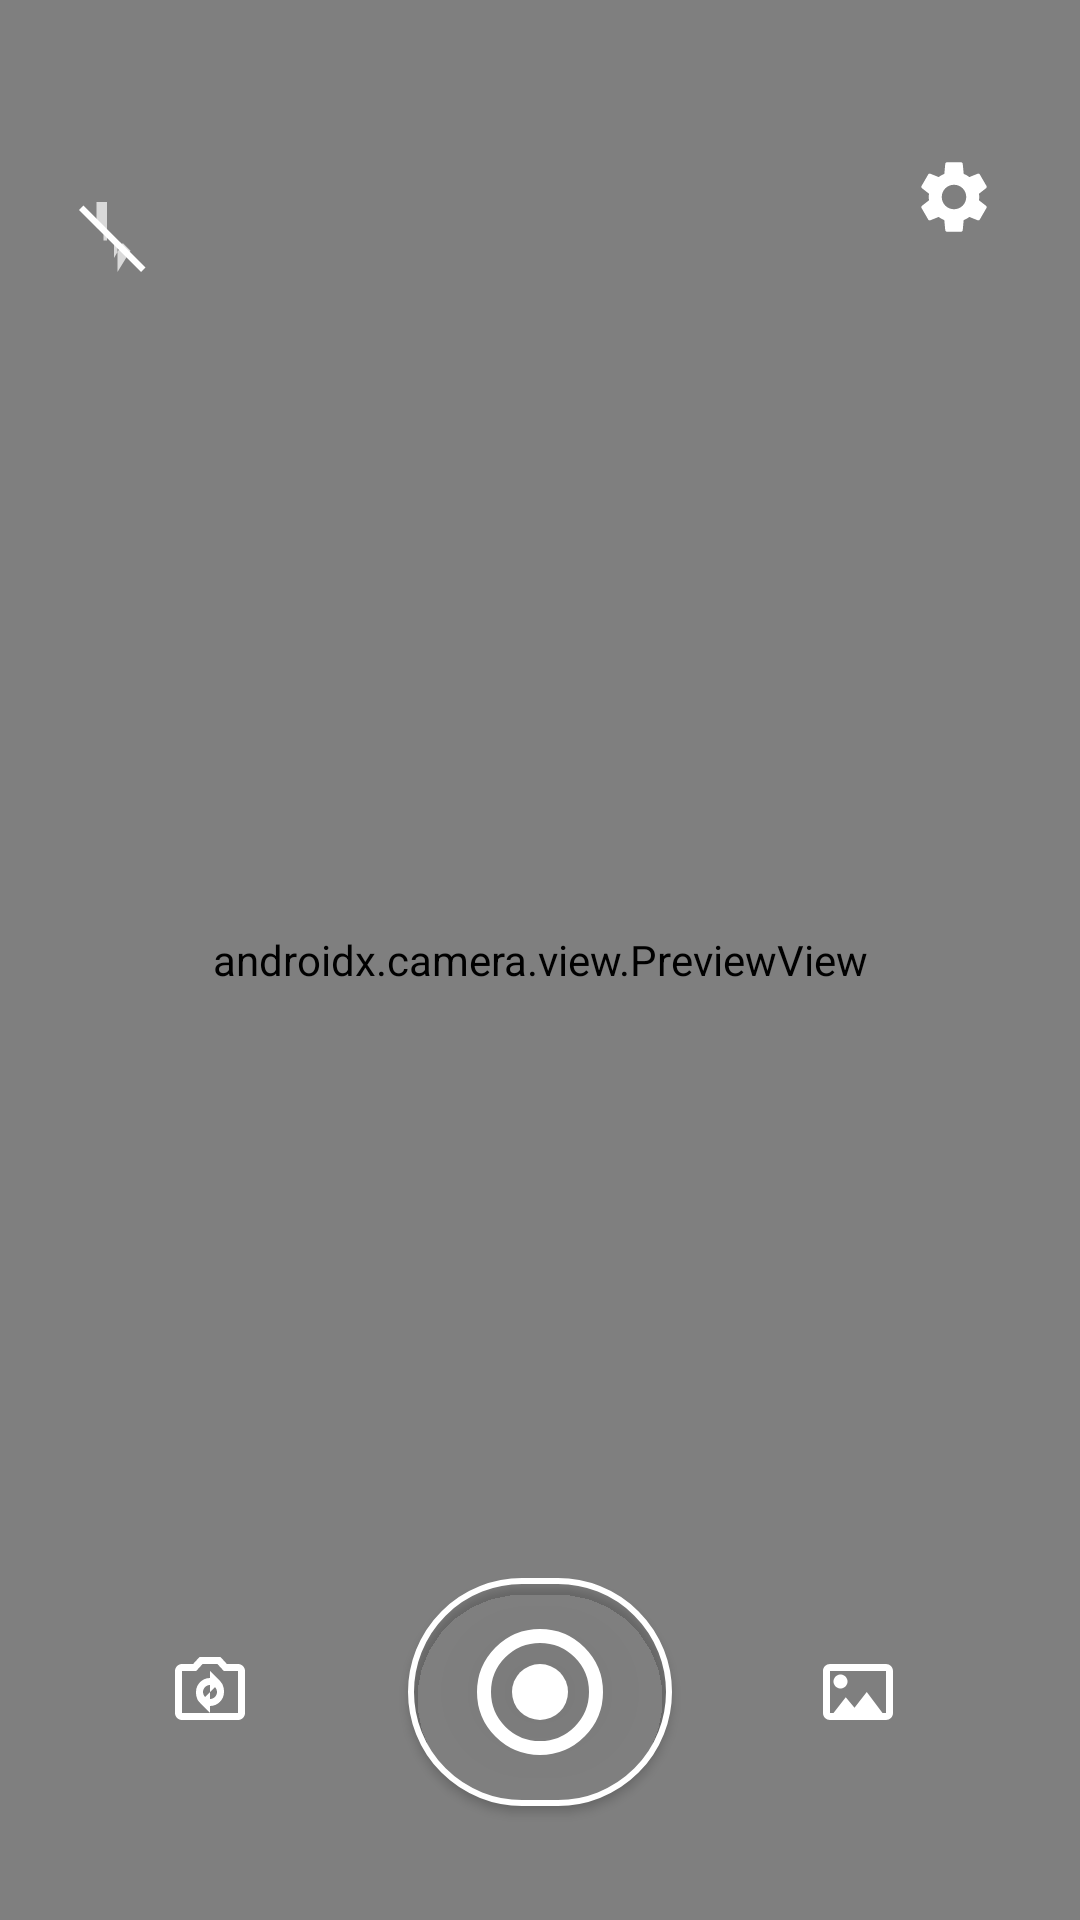

Icons on this 1080x1920 Android screen, each with the point to tap as [x,y]:
Flash Off: [112,237]
Gallery: [858,1692]
Settings: [954,197]
Switch: [210,1688]
Take: [540,1692]
